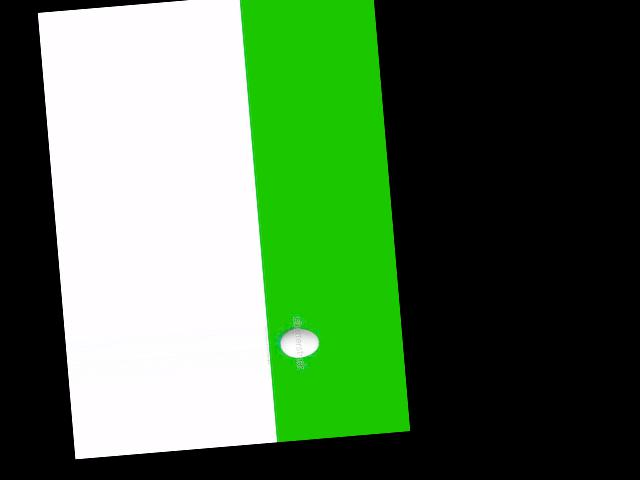egg: (279, 327, 319, 359)
